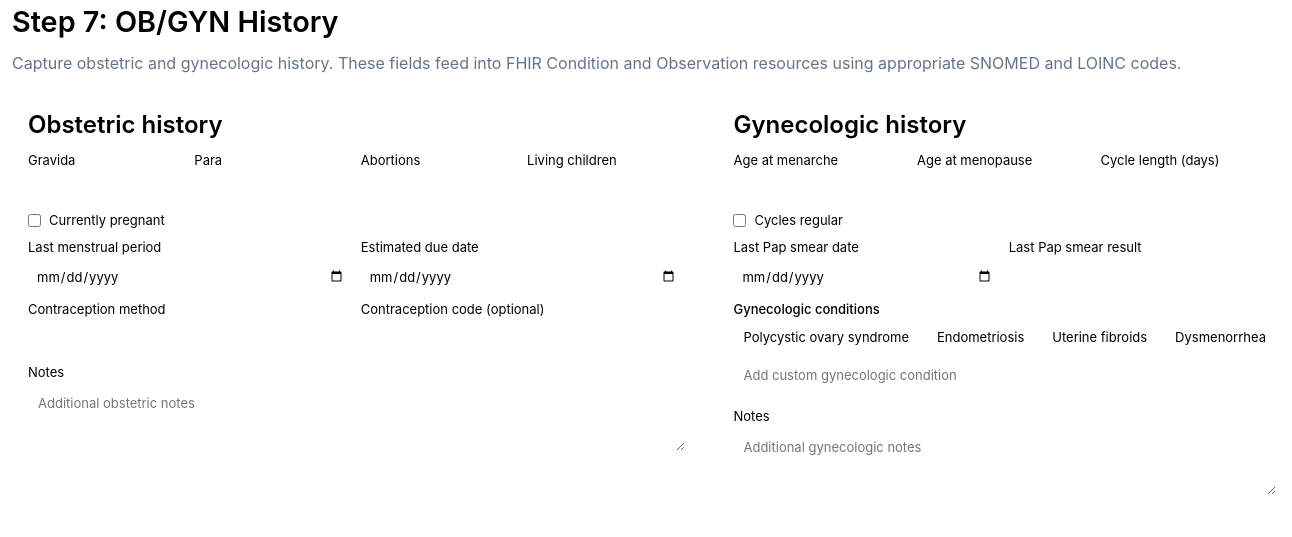
Test: WizardStep7ObgynHistory › allows adding a custom gynecologic condition
Type "Chronic pelvic pain" into the field with placeholder "Add custom gynecologic condition" at (1005, 375), box left=734, top=359, right=1276, bottom=391
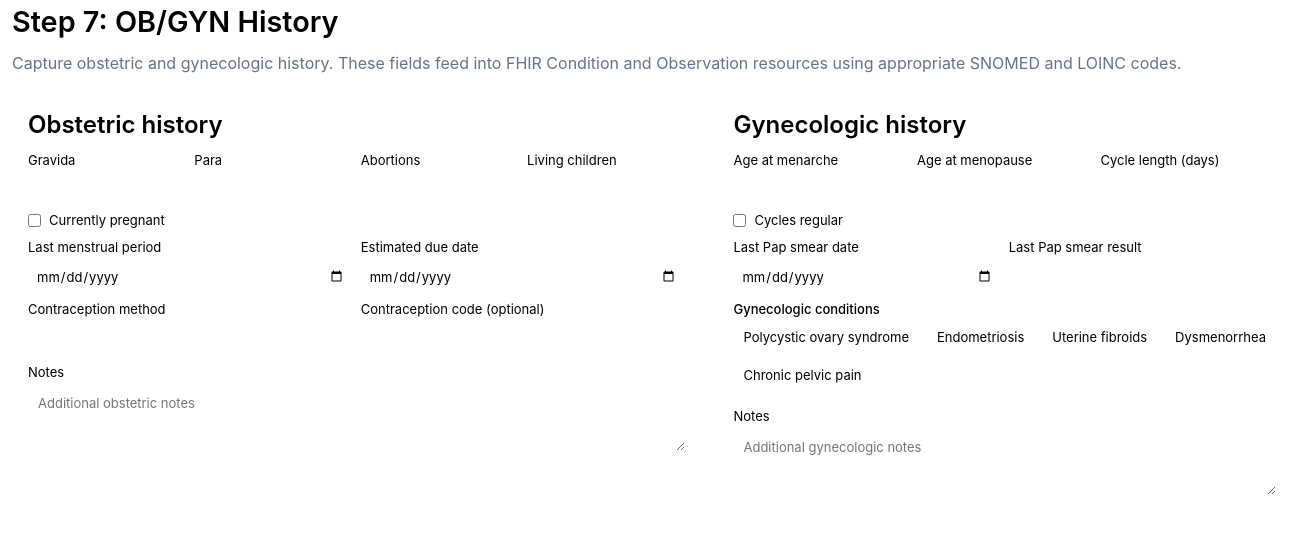
Press Enter in the field with placeholder "Add custom gynecologic condition", box left=734, top=359, right=1276, bottom=391
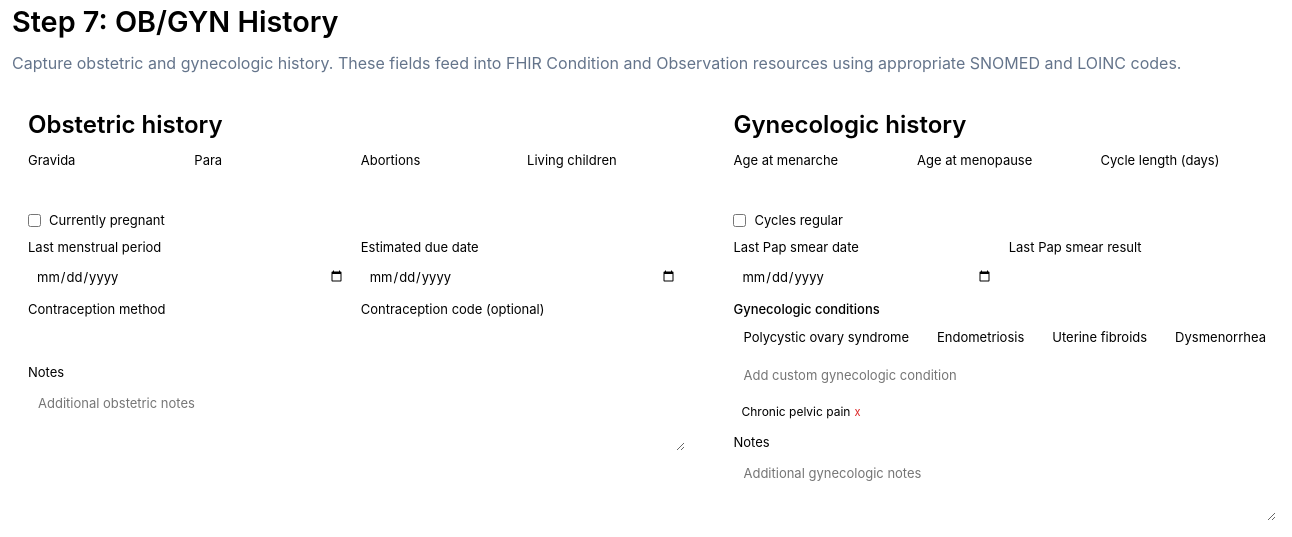
Expected: the text "Chronic pelvic pain" is shown, left=742, top=403, right=850, bottom=421
